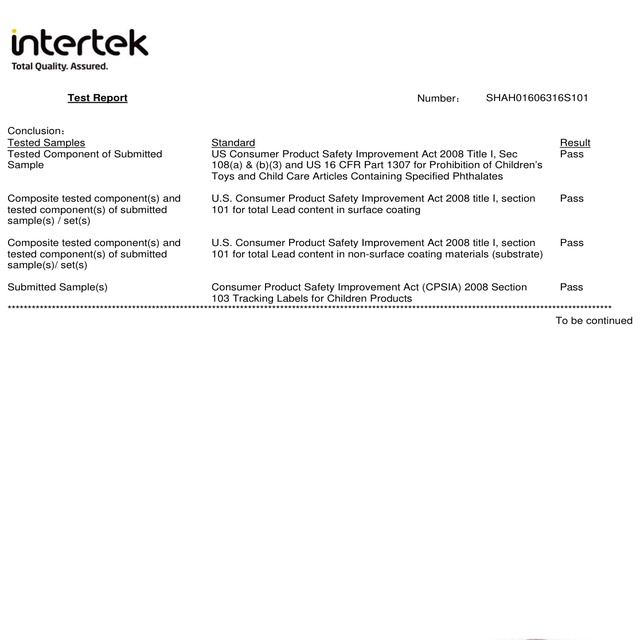intertek: (7, 23, 157, 63)
